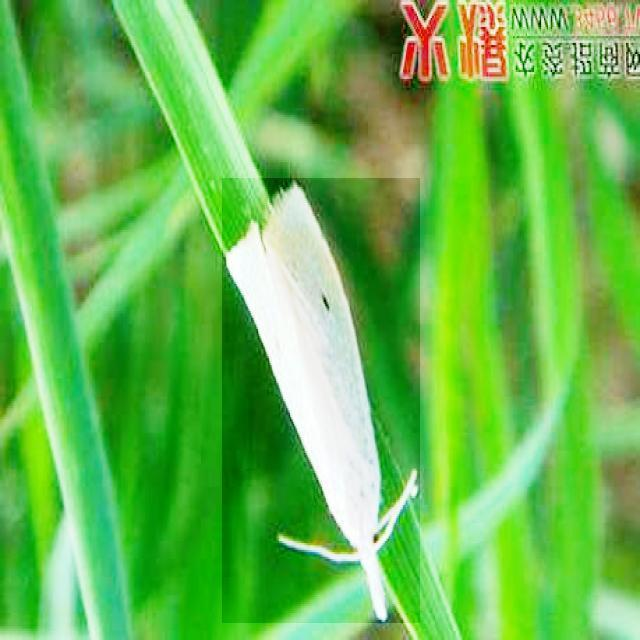stem-borer: (222, 178, 420, 623)
